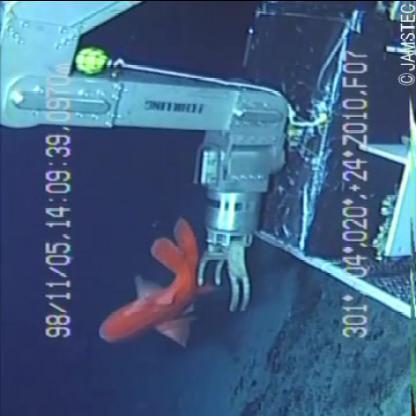Bio: (90, 210, 223, 352)
Rov: (1, 1, 412, 314)
